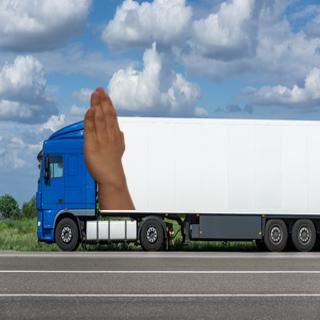RIGHT: (77, 80, 130, 187)
